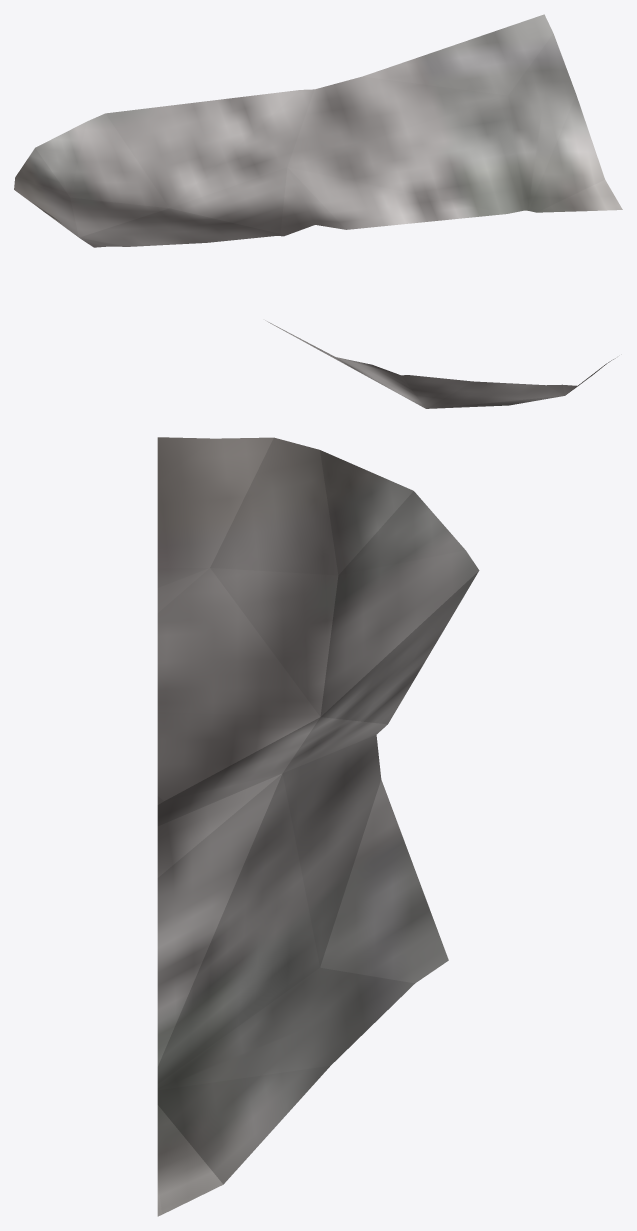
3 renders of one model, top to bottom at view 1: azimuth 30°, elevation 25°; view 2: azimuth 150°, elevation 25°; view 3: azimuth 270°, elevation 25°, orthographic. The views are drawn at different scales.
Size of the model in its own units: 0.1743 by 0.0398 by 0.0453.
1 material, 1 textured.
